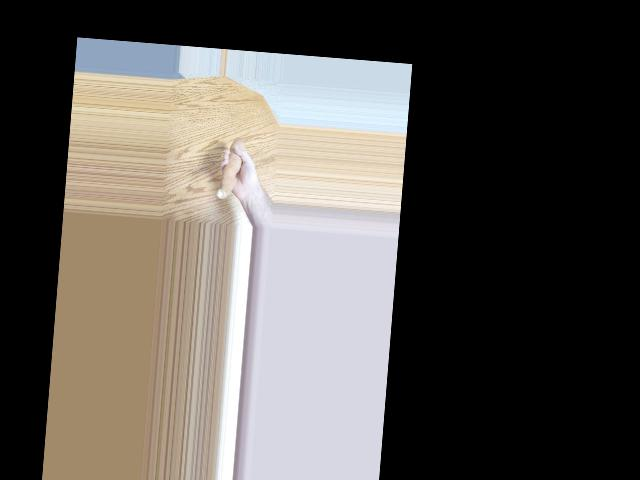sweet_potato: (218, 143, 248, 205)
